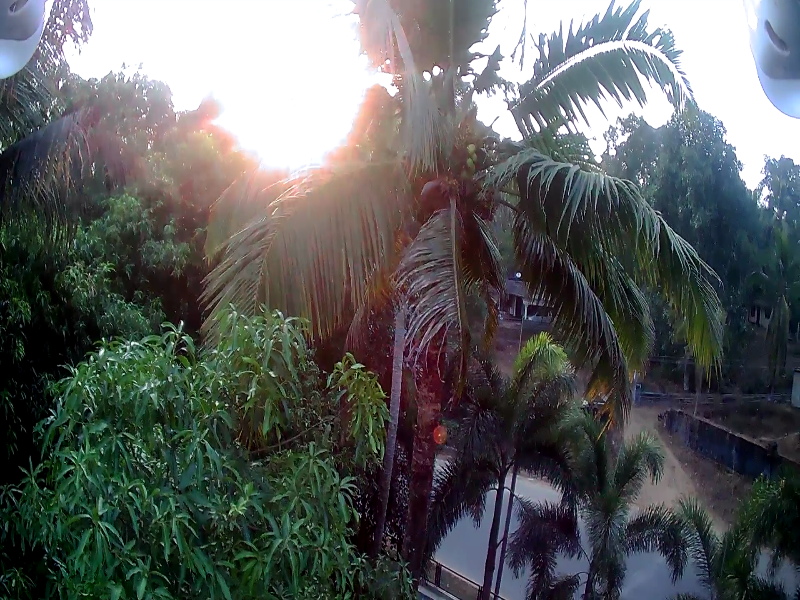coconut: (455, 167, 468, 180), (460, 154, 470, 167), (467, 151, 476, 165), (465, 143, 473, 151)
